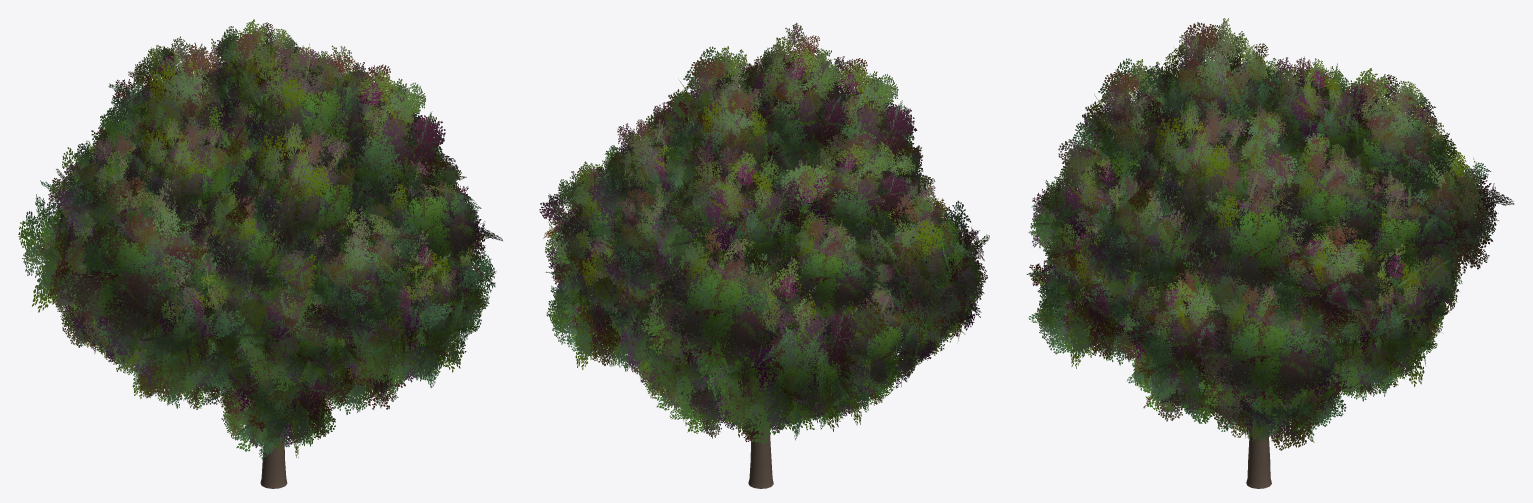
File: tree_medium_broad_clustered_canopy.glb
3 views of the same model, side by side, from view 1: azimuth 30°, elevation 25°; view 2: azimuth 150°, elevation 25°; view 3: azimuth 270°, elevation 25° (orthographic). The views are drawn at different scales.
Visible parts, largest first — view 1: Camphor_Foliage_OldCrownGroup_27, Camphor_Foliage_OldCrownGroup_30, Camphor_Foliage_OldCrownGroup_19, Camphor_Foliage_OldCrownGroup_21, Camphor_Foliage_OldCrownGroup_11, Camphor_Foliage_OldCrownGroup_28, Camphor_Foliage_OldCrownGroup_13, Camphor_Foliage_OldCrownGroup_26, Camphor_Foliage_OldCrownGroup_25, Camphor_Foliage_OldCrownGroup_12, Camphor_Foliage_OldCrownGroup_20, Camphor_Foliage_OldCrownGroup_04 (+11 smaller); view 2: Camphor_Foliage_OldCrownGroup_09, Camphor_Foliage_OldCrownGroup_17, Camphor_Foliage_OldCrownGroup_25, Camphor_Foliage_OldCrownGroup_30, Camphor_Foliage_OldCrownGroup_19, Camphor_Foliage_OldCrownGroup_26, Camphor_Foliage_OldCrownGroup_07, Camphor_Foliage_OldCrownGroup_29, Camphor_Foliage_OldCrownGroup_18, Camphor_Foliage_OldCrownGroup_16, Camphor_Foliage_OldCrownGroup_27, Camphor_Foliage_OldCrownGroup_24 (+9 smaller); view 3: Camphor_Foliage_OldCrownGroup_28, Camphor_Foliage_OldCrownGroup_06, Camphor_Foliage_OldCrownGroup_30, Camphor_Foliage_OldCrownGroup_15, Camphor_Foliage_OldCrownGroup_07, Camphor_Foliage_OldCrownGroup_23, Camphor_Foliage_OldCrownGroup_14, Camphor_Foliage_OldCrownGroup_22, Camphor_Foliage_OldCrownGroup_13, Camphor_Foliage_OldCrownGroup_25, Camphor_Foliage_OldCrownGroup_24, Camphor_Foliage_OldCrownGroup_27 (+9 smaller).
Part boxes in pixels (x1=…): Camphor_Foliage_OldCrownGroup_27: x1=211, y1=99, x2=466, y2=389; Camphor_Foliage_OldCrownGroup_30: x1=92, y1=35, x2=374, y2=364; Camphor_Foliage_OldCrownGroup_19: x1=57, y1=168, x2=229, y2=350; Camphor_Foliage_OldCrownGroup_21: x1=180, y1=203, x2=429, y2=408; Camphor_Foliage_OldCrownGroup_11: x1=89, y1=237, x2=262, y2=400; Camphor_Foliage_OldCrownGroup_28: x1=313, y1=62, x2=451, y2=225; Camphor_Foliage_OldCrownGroup_13: x1=328, y1=224, x2=479, y2=394; Camphor_Foliage_OldCrownGroup_26: x1=104, y1=116, x2=243, y2=239; Camphor_Foliage_OldCrownGroup_25: x1=102, y1=36, x2=237, y2=174; Camphor_Foliage_OldCrownGroup_12: x1=234, y1=285, x2=362, y2=391; Camphor_Foliage_OldCrownGroup_20: x1=189, y1=186, x2=305, y2=305; Camphor_Foliage_OldCrownGroup_04: x1=215, y1=348, x2=335, y2=459; Camphor_Foliage_OldCrownGroup_09: x1=645, y1=84, x2=857, y2=443; Camphor_Foliage_OldCrownGroup_17: x1=641, y1=216, x2=796, y2=374; Camphor_Foliage_OldCrownGroup_25: x1=650, y1=145, x2=809, y2=291; Camphor_Foliage_OldCrownGroup_30: x1=707, y1=22, x2=938, y2=362; Camphor_Foliage_OldCrownGroup_19: x1=731, y1=176, x2=989, y2=441; Camphor_Foliage_OldCrownGroup_26: x1=785, y1=134, x2=917, y2=254; Camphor_Foliage_OldCrownGroup_07: x1=545, y1=218, x2=655, y2=382; Camphor_Foliage_OldCrownGroup_29: x1=664, y1=83, x2=789, y2=201; Camphor_Foliage_OldCrownGroup_18: x1=771, y1=212, x2=880, y2=320; Camphor_Foliage_OldCrownGroup_16: x1=587, y1=183, x2=695, y2=302; Camphor_Foliage_OldCrownGroup_27: x1=711, y1=56, x2=923, y2=185; Camphor_Foliage_OldCrownGroup_24: x1=584, y1=119, x2=685, y2=236; Camphor_Foliage_OldCrownGroup_28: x1=1112, y1=100, x2=1276, y2=260; Camphor_Foliage_OldCrownGroup_06: x1=1193, y1=276, x2=1347, y2=417; Camphor_Foliage_OldCrownGroup_30: x1=1123, y1=18, x2=1417, y2=164; Camphor_Foliage_OldCrownGroup_15: x1=1253, y1=212, x2=1404, y2=343; Camphor_Foliage_OldCrownGroup_07: x1=1316, y1=234, x2=1451, y2=396; Camphor_Foliage_OldCrownGroup_23: x1=1161, y1=152, x2=1313, y2=315; Camphor_Foliage_OldCrownGroup_14: x1=1115, y1=263, x2=1230, y2=413; Camphor_Foliage_OldCrownGroup_22: x1=1079, y1=175, x2=1221, y2=312; Camphor_Foliage_OldCrownGroup_13: x1=1026, y1=203, x2=1160, y2=368; Camphor_Foliage_OldCrownGroup_25: x1=1313, y1=68, x2=1457, y2=214; Camphor_Foliage_OldCrownGroup_24: x1=1261, y1=142, x2=1388, y2=263; Camphor_Foliage_OldCrownGroup_27: x1=1058, y1=58, x2=1247, y2=305.
Size of the model in its own units: 13.78 by 14.01 by 13.62.
2 materials, 1 textured.
